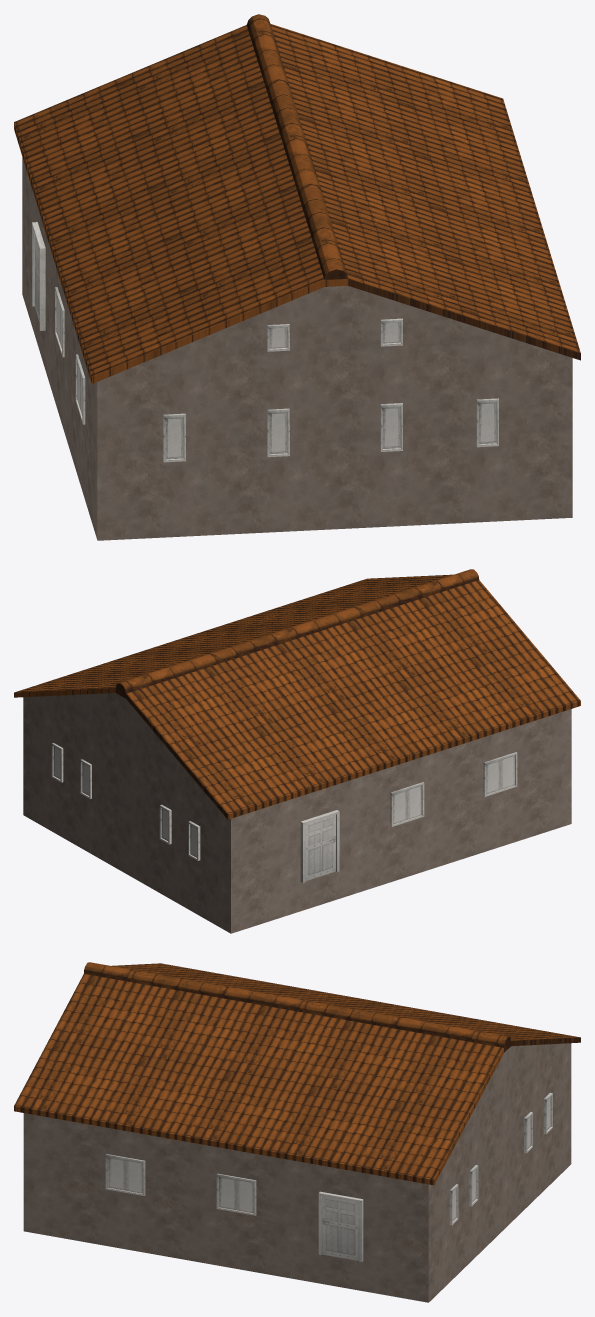
File: Casa_22.fbx
3 views of the same model, one above another, from view 1: azimuth 30°, elevation 25°; view 2: azimuth 150°, elevation 25°; view 3: azimuth 270°, elevation 25° (orthographic). The views are drawn at different scales.
Visible parts, largest first — view 1: Casa_22; view 2: Casa_22; view 3: Casa_22.
Part boxes in pixels (box(x1,y1,x2,y2)): Casa_22: box(14, 14, 580, 540); Casa_22: box(14, 569, 580, 933); Casa_22: box(14, 962, 580, 1302).
Bounding box in the file's own units: 15.16 × 6.45 × 16.75.
